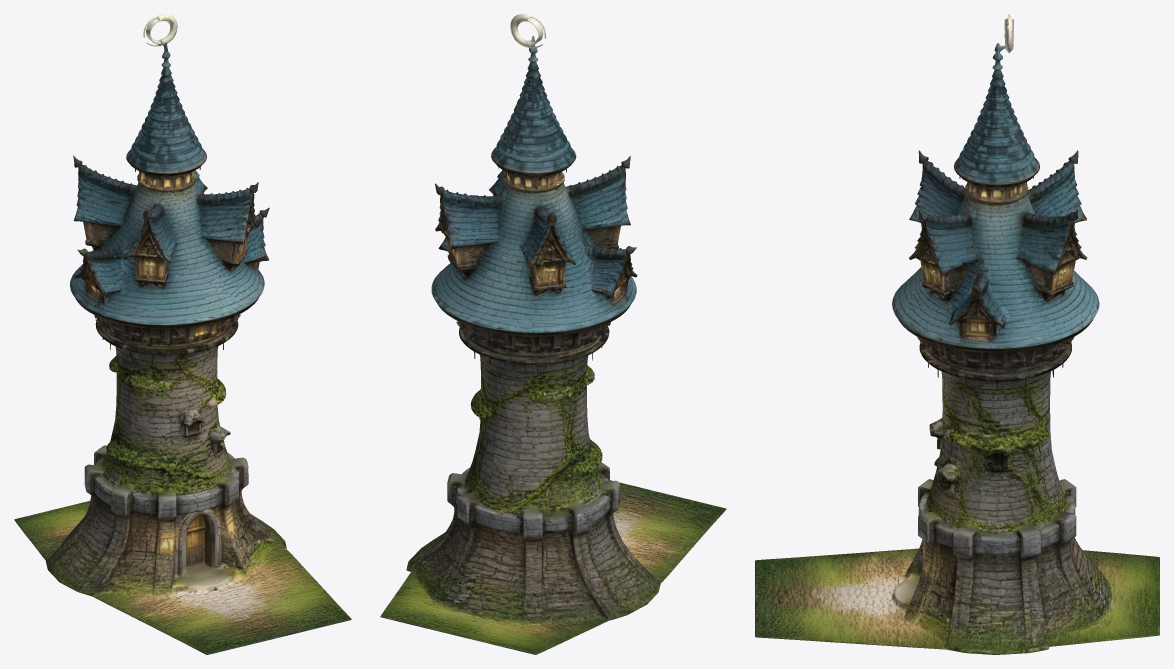
The model's file is TorreMagia.glb.
3 renders of one model, left to right at view 1: azimuth 30°, elevation 25°; view 2: azimuth 150°, elevation 25°; view 3: azimuth 270°, elevation 25°, orthographic. The views are drawn at different scales.
Parts seen in each view (by area): view 1: node_0; view 2: node_0; view 3: node_0.
Boxes of the visible parts, left/top/right/bottom form: node_0: left=14, top=14, right=351, bottom=654; node_0: left=380, top=14, right=726, bottom=654; node_0: left=755, top=14, right=1159, bottom=654.
Bounding box in the file's own units: 0.4121 × 0.9847 × 0.6213.
1 material, 1 textured.
